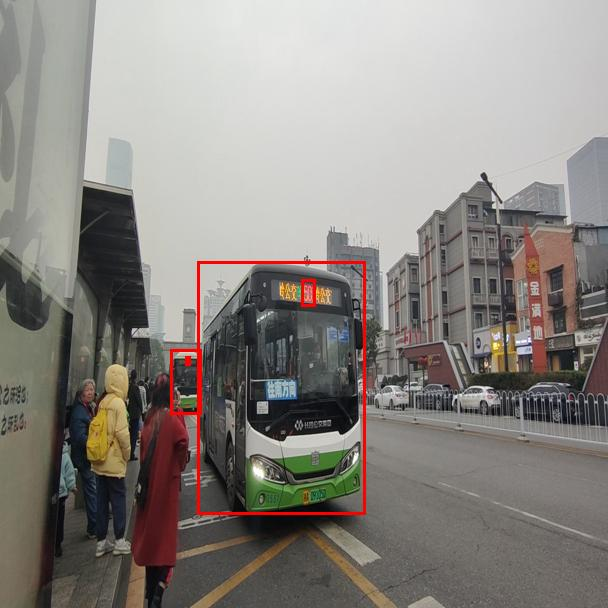bus: (197, 261, 365, 514), (170, 349, 201, 414)
screen: (301, 279, 315, 306), (185, 356, 190, 365)
